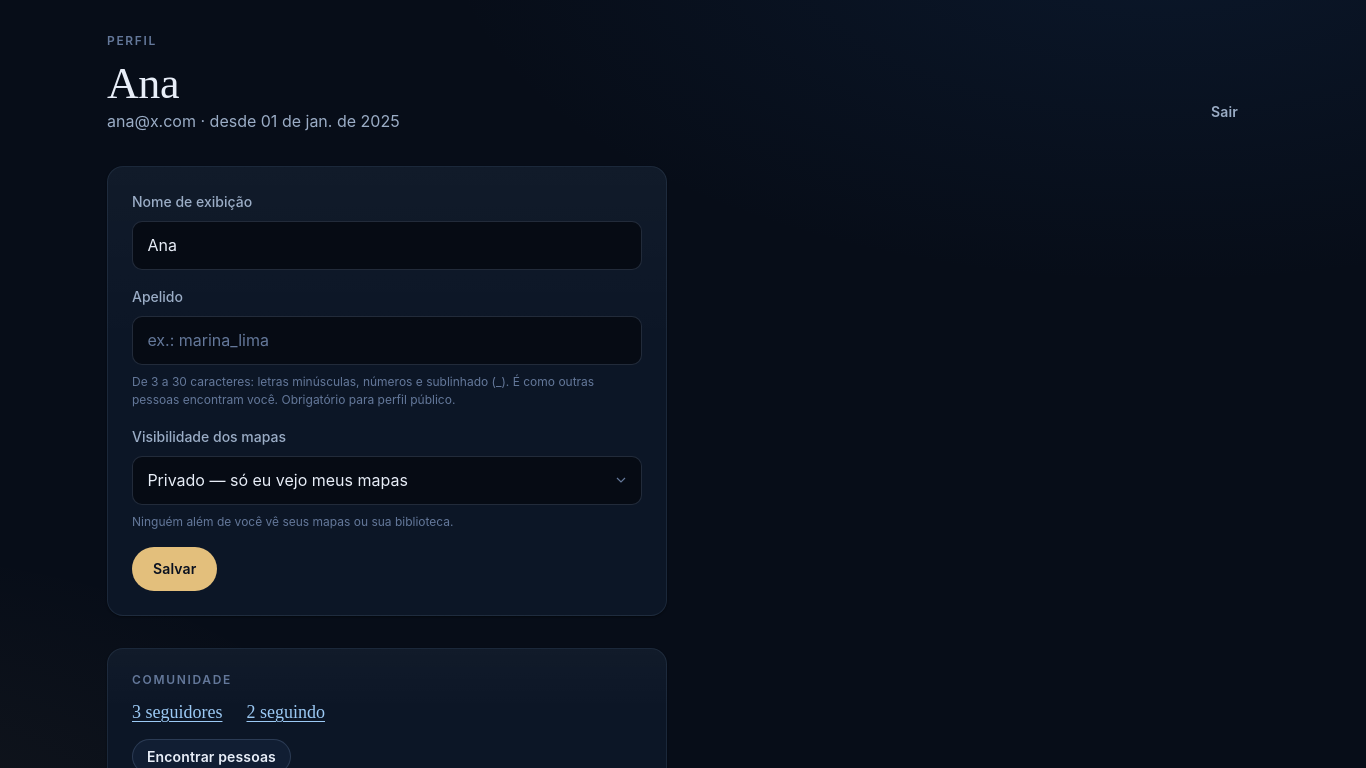
ProfilePage: apelido e visibilidade pública › erro profile.handle_invalid da API aparece no campo do apelido
Step 1. Type "marina_lima" into the field with test id "handle-input" → point(387, 340), box [132,316,642,365]
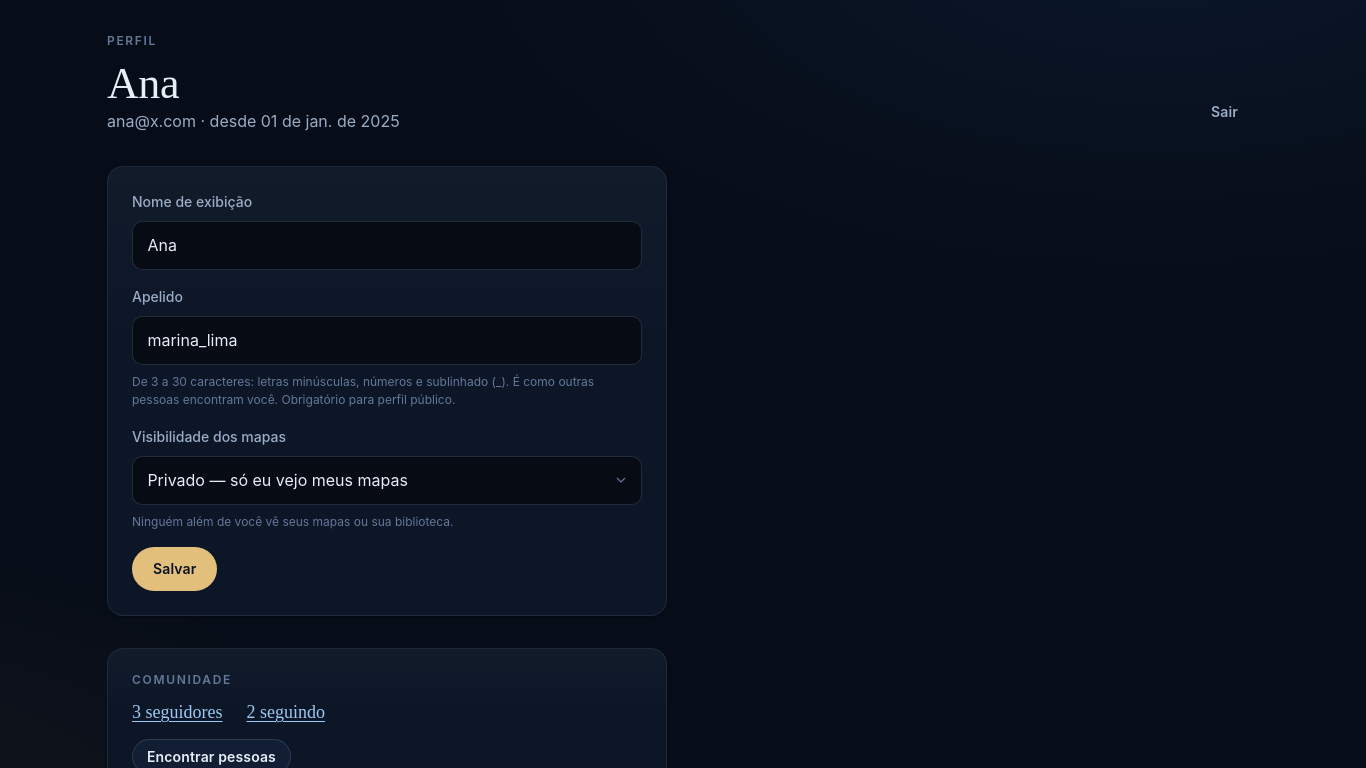
Step 2. Submit the form, box [132,191,642,591]
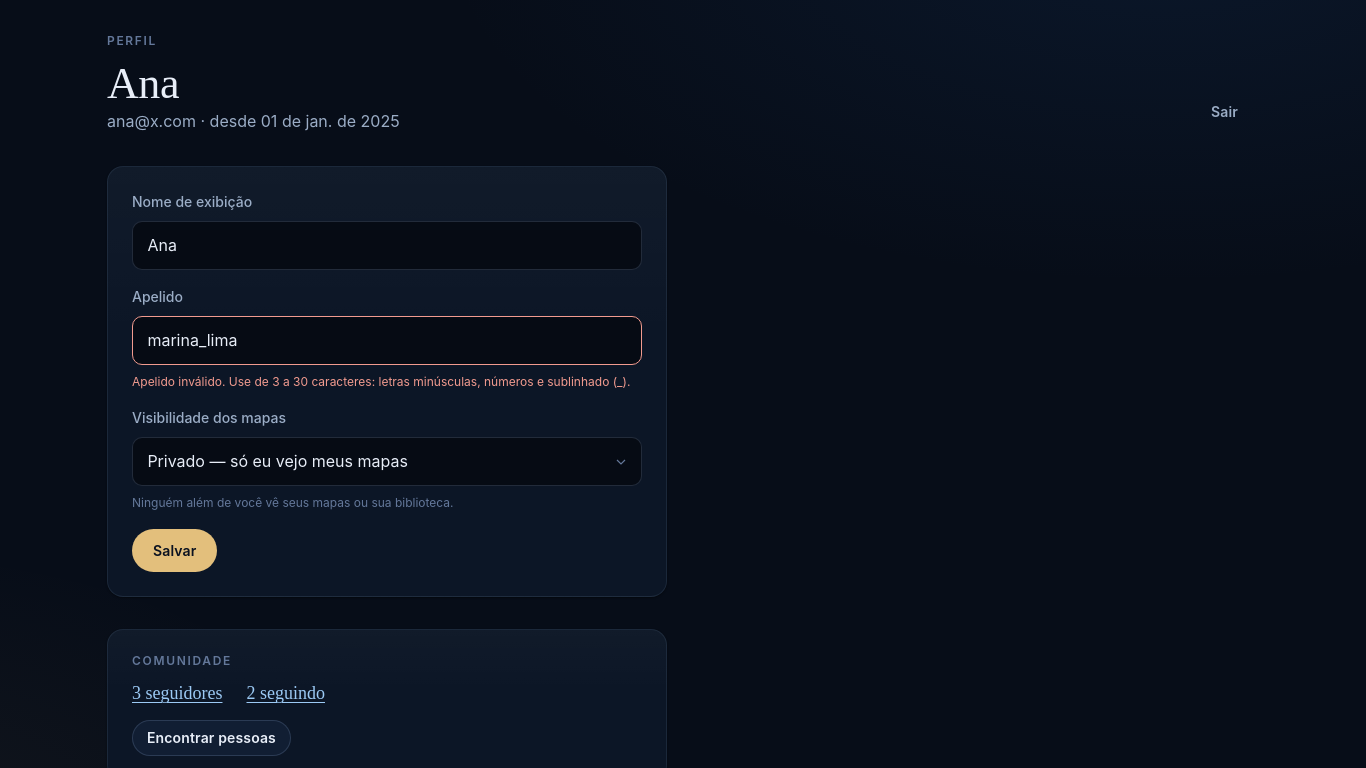
Check: the message with class "field__error" shows "Apelido inválido", box [132,374,630,389]
